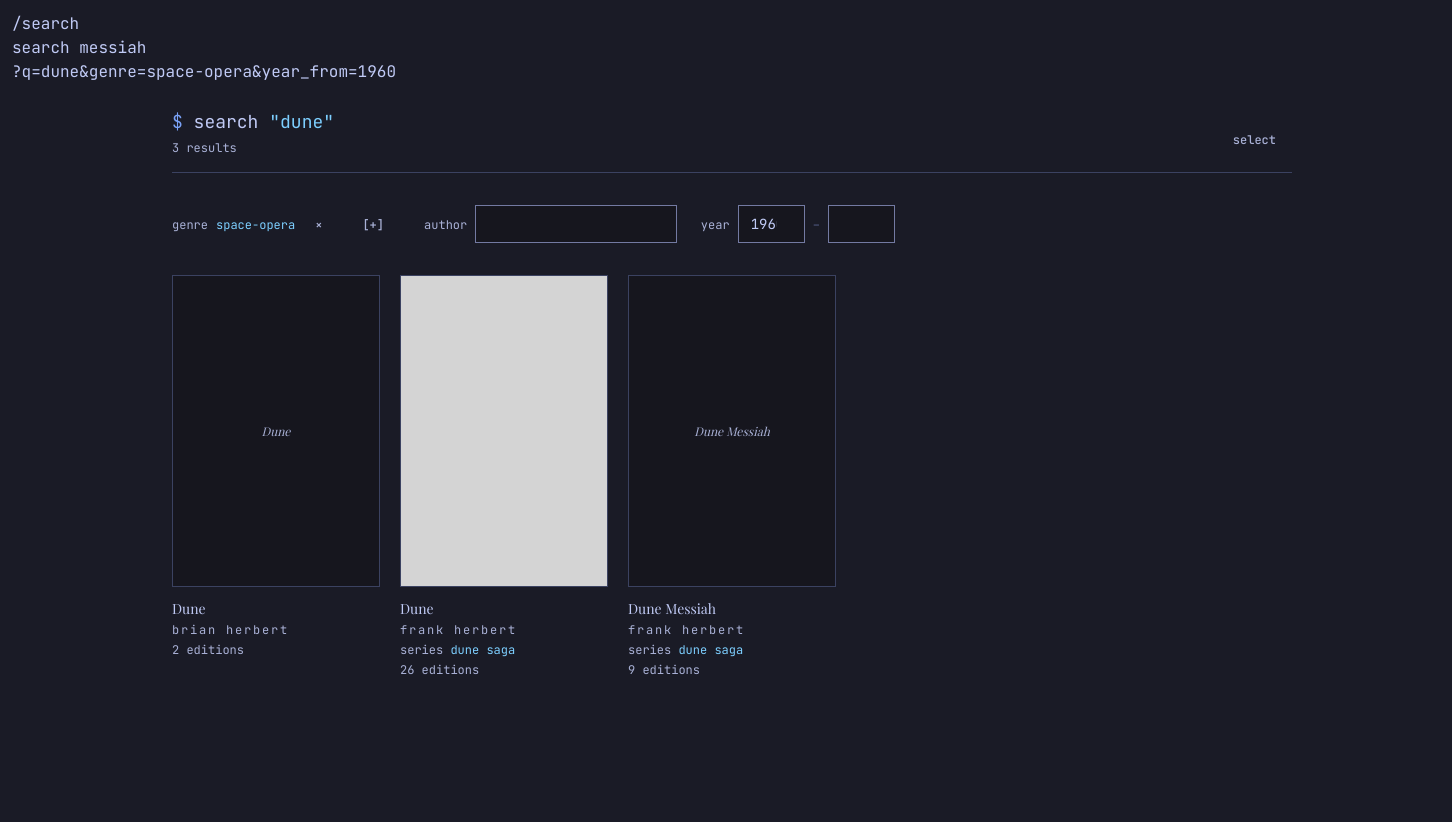
Test: Search page › reads filters from the URL and writes changes back
Click the button named "remove genre space-opera": (319, 225) [299,209,338,241]
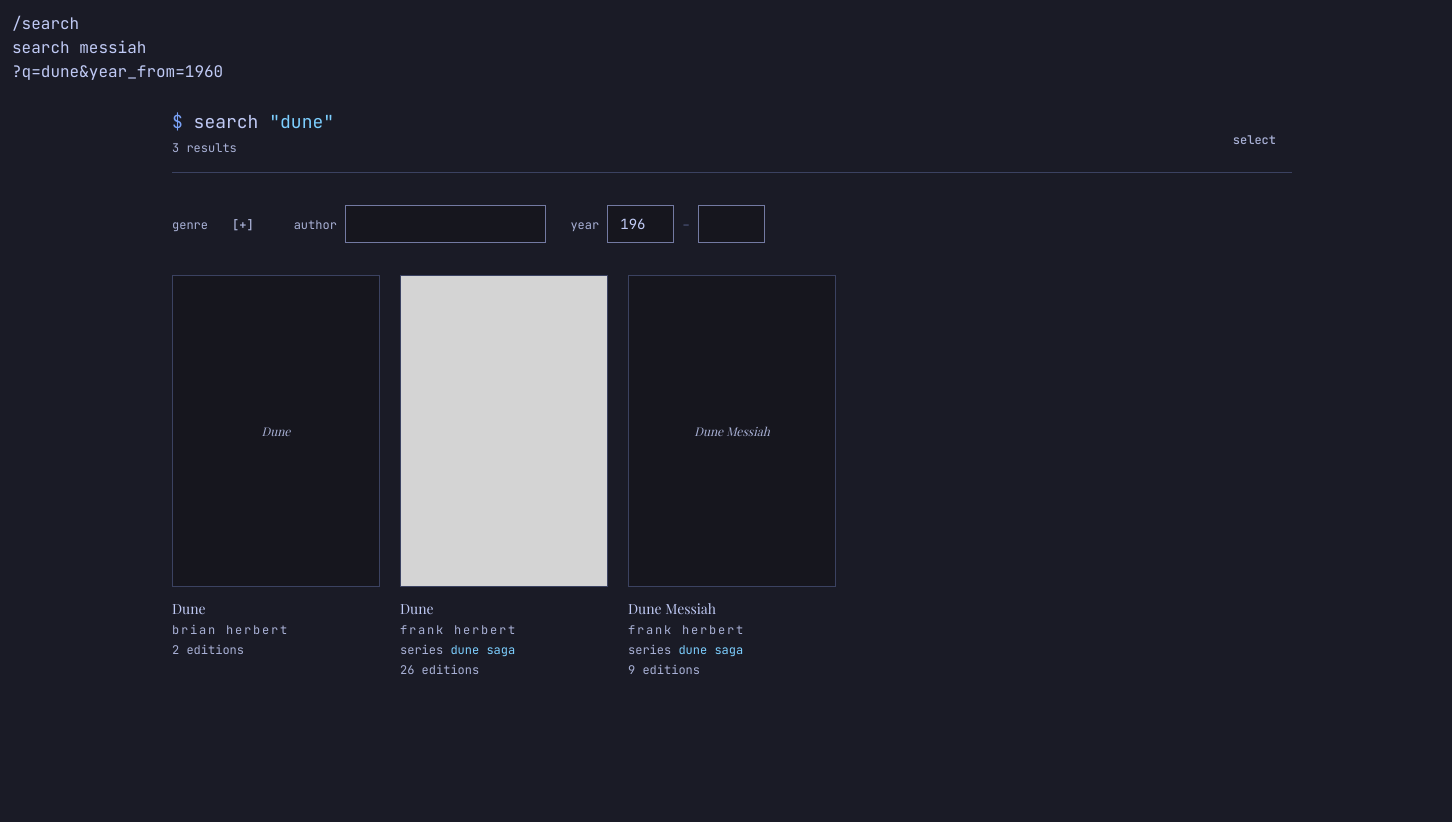
Now the text with test id "search" reads "?q=dune&year_from=1960", box [12,61,223,82]
